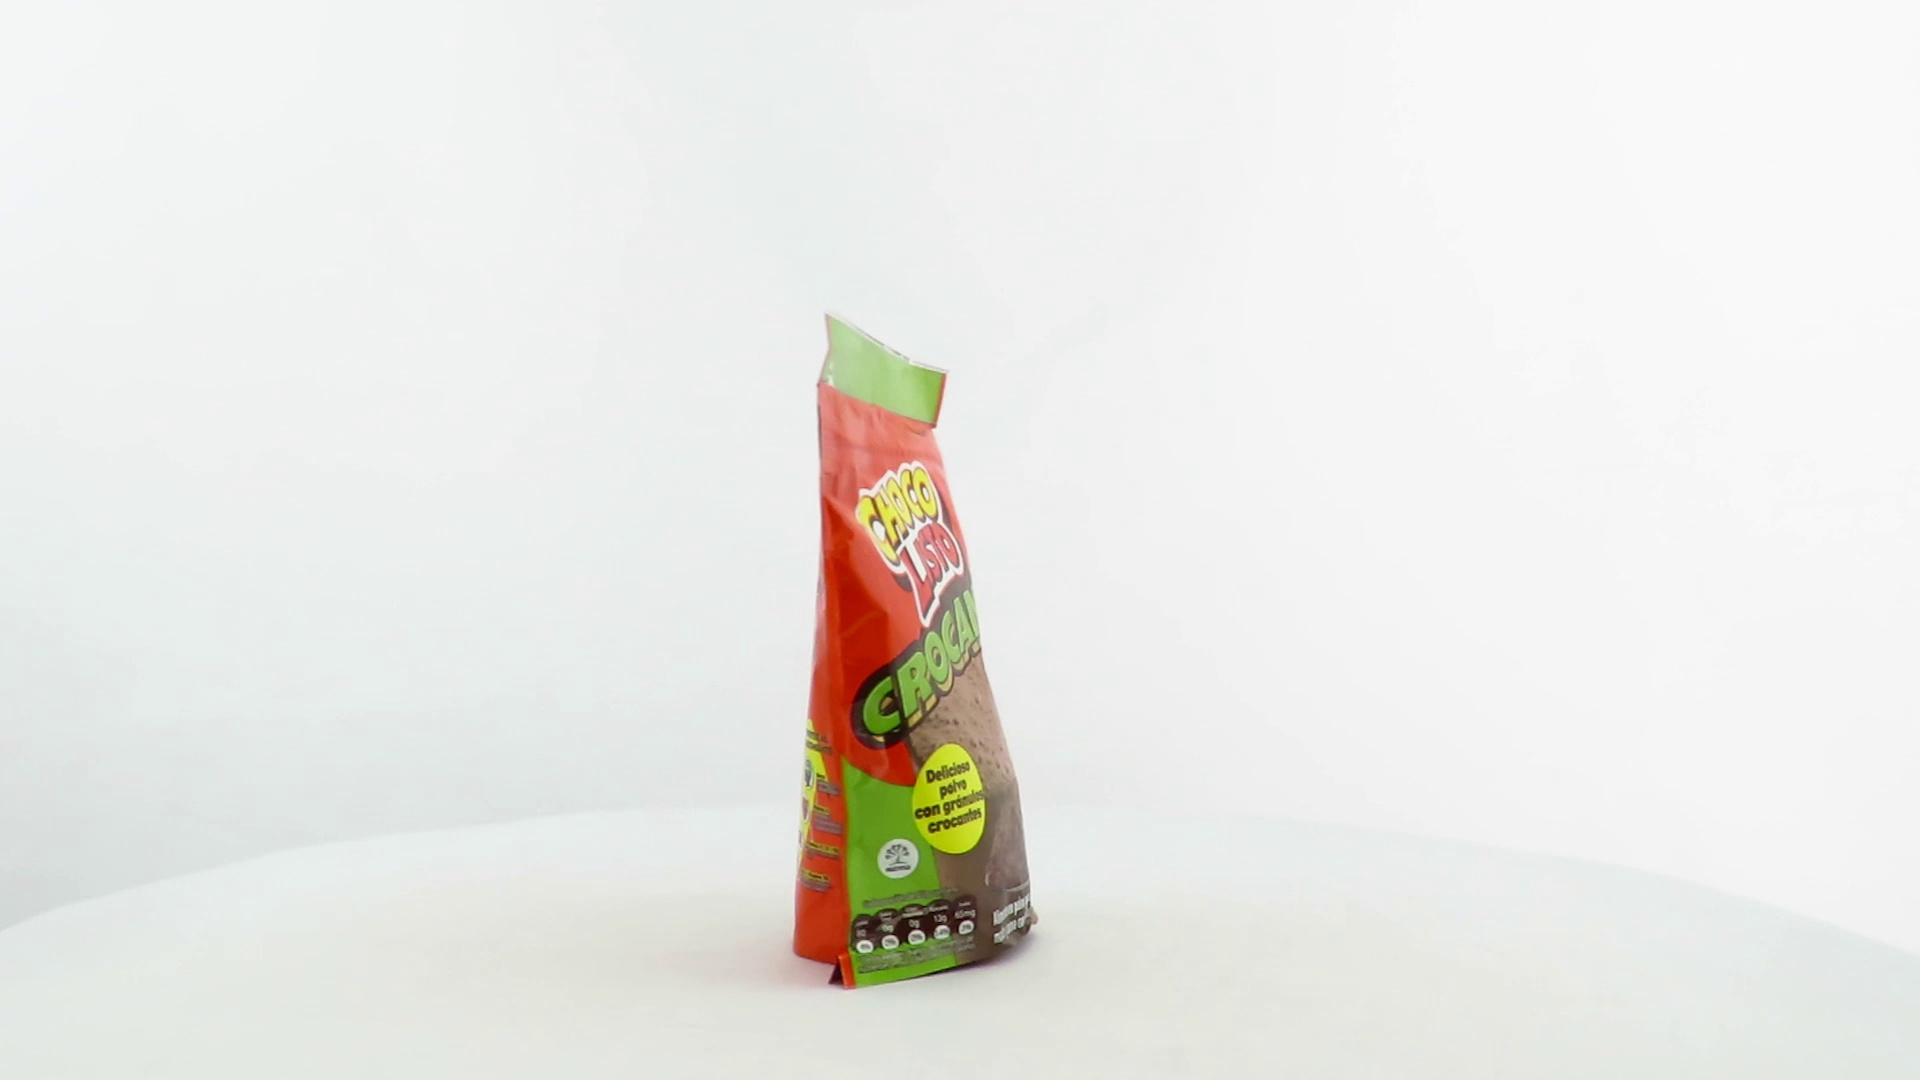COL0170102DYP10000: (787, 309, 1044, 997)
